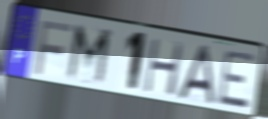1: (123, 30, 147, 97)
A: (176, 43, 216, 105)
E: (215, 49, 258, 112)
F: (33, 18, 74, 77)
H: (142, 36, 186, 98)
M: (64, 22, 114, 90)
